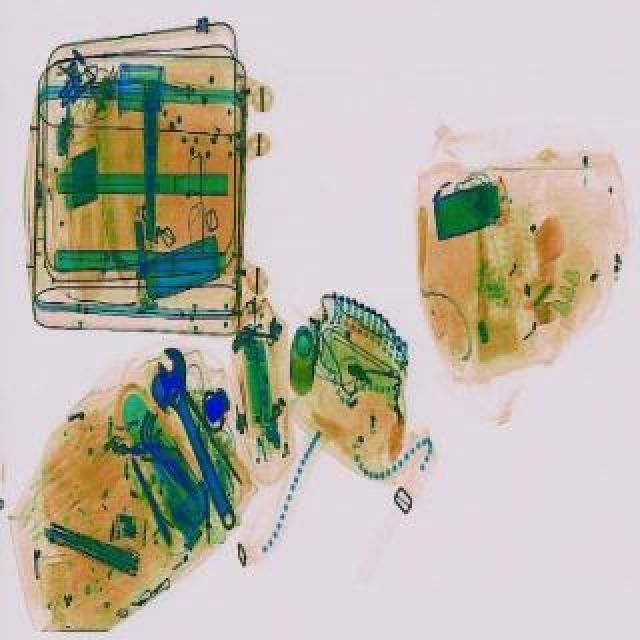scissors: (136, 340, 256, 534)
